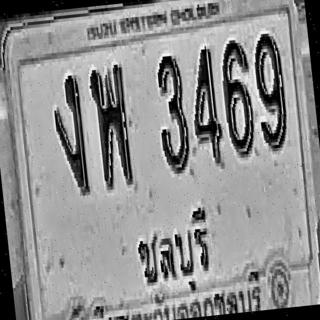A07: (49, 72, 90, 198)
A30: (88, 62, 134, 189)
N03: (153, 52, 192, 175)
N04: (186, 45, 225, 168)
N06: (218, 37, 258, 157)
N09: (250, 29, 290, 152)
P13: (128, 202, 213, 301)
